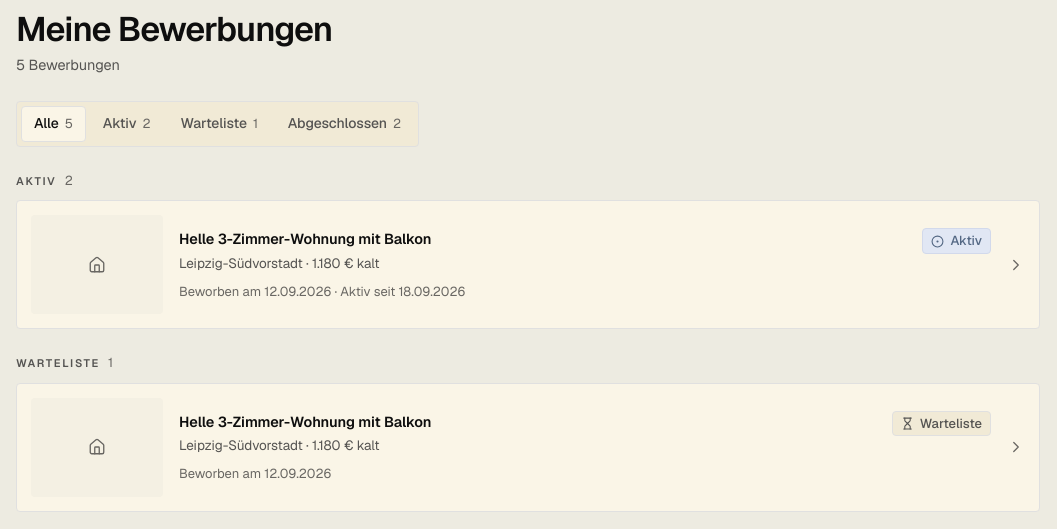
Test: ApplicationsOverview › reloads from the backend when the filter changes
The width and height of the screenshot is (1057, 529).
Expected: the button "Alle 5" is shown, [21,106,86,142]
Click the button "Warteliste 1".
click(219, 124)  # box [168,106,271,142]
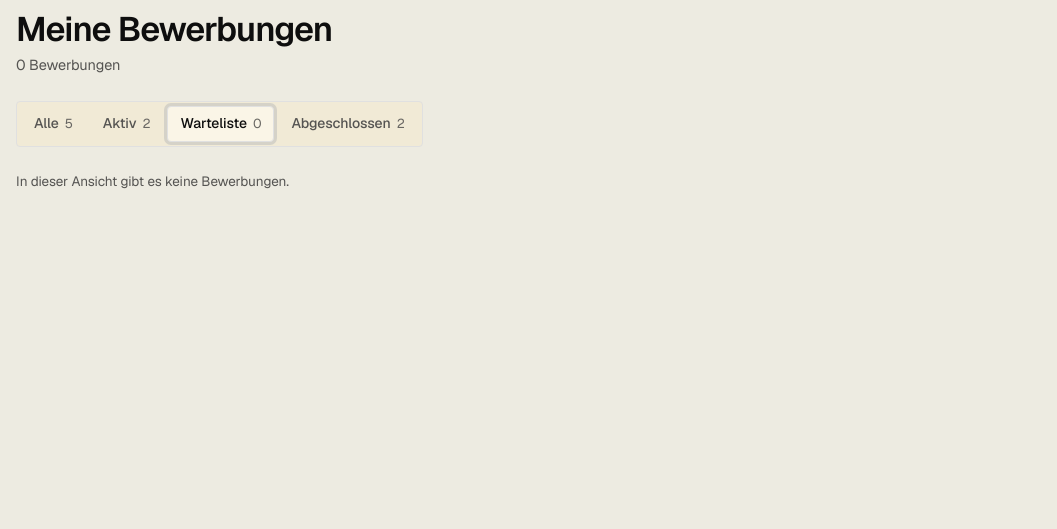
Expected: the text "0 Bewerbungen" is shown, [16,55,120,74]
Expected: the text "In dieser Ansicht gibt es keine Bewerbungen." is shown, [16,172,289,190]
